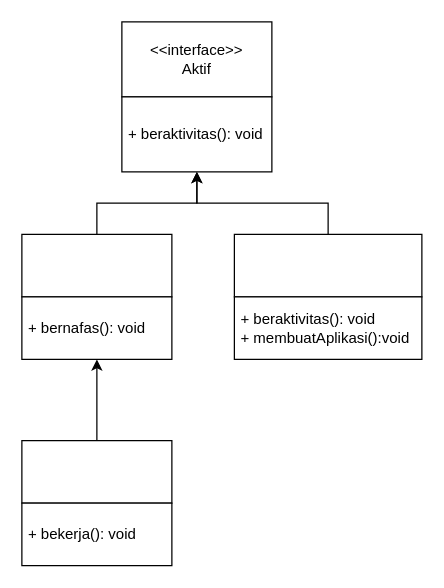
Some shapes in this 444 by 588 pixel diagram are drawn without their labels. Each missing label, with the centre of its shape:
"MakhlukHidup" goes at (96,265).
"Pekerja" goes at (96,471).
"Programmer" goes at (327,265).
